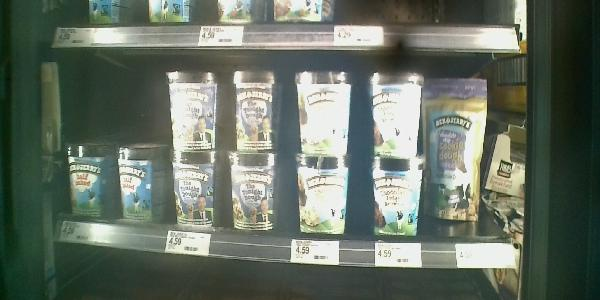icecream1: (424, 78, 485, 225), (290, 64, 355, 155), (291, 154, 358, 241), (366, 65, 429, 156), (366, 157, 434, 239), (162, 63, 223, 150), (163, 148, 224, 229), (228, 65, 281, 152), (225, 151, 281, 232), (63, 137, 115, 219), (117, 137, 165, 222)
